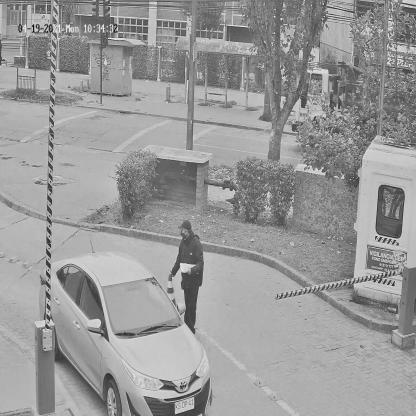Patente: (173, 397, 195, 414)
